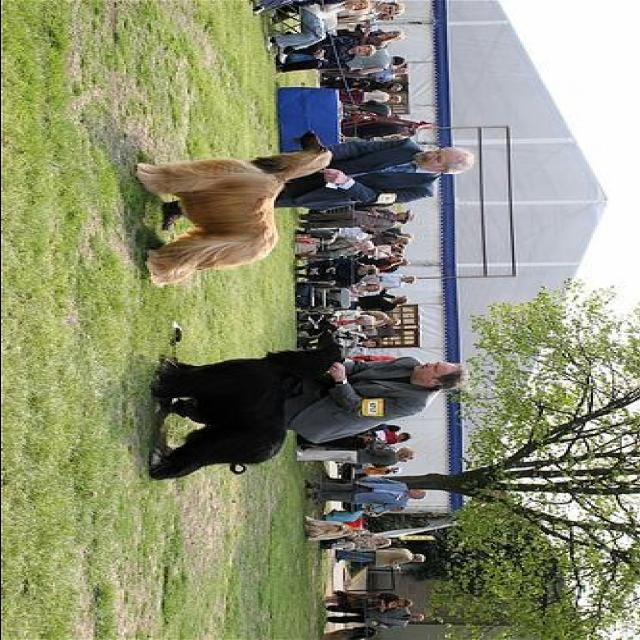afghan_hound: (133, 130, 334, 286), (146, 332, 342, 480)
